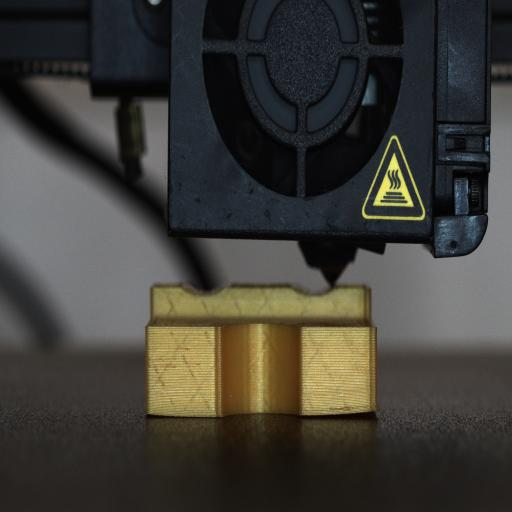warp: (326, 398, 382, 422)
